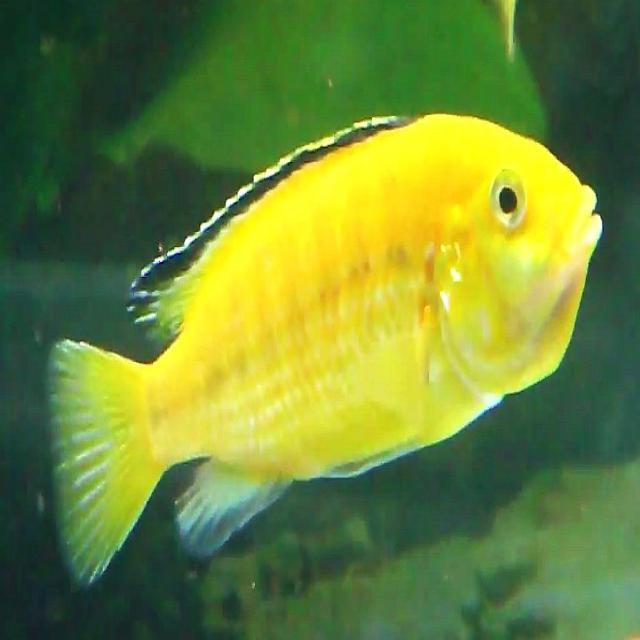YellowCichlid: (52, 111, 600, 589)
